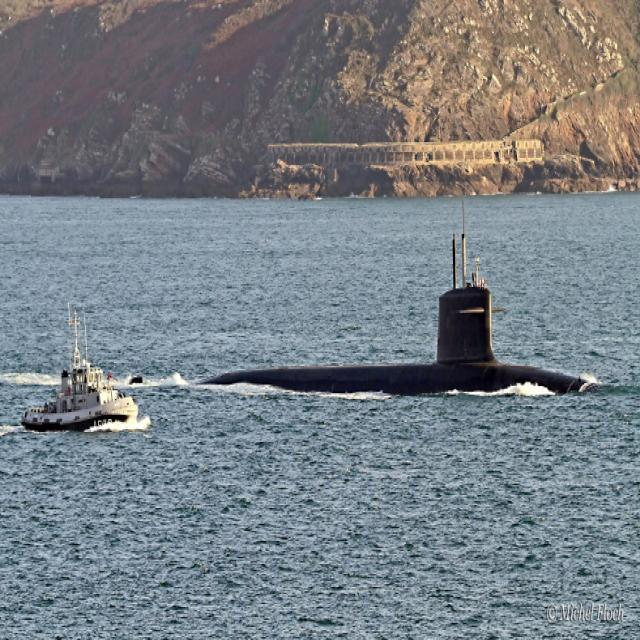submarine: (199, 196, 617, 386)
